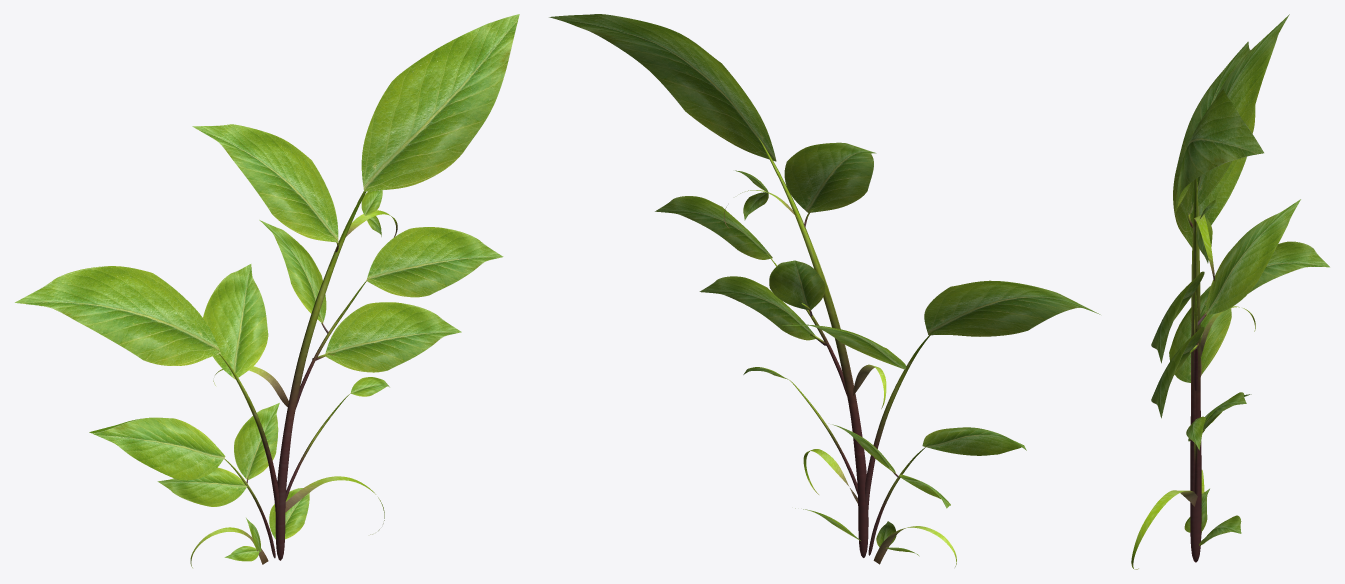
File: plant.glb
The picture shows the model from 3 angles, left to right: view 1: azimuth 30°, elevation 25°; view 2: azimuth 150°, elevation 25°; view 3: azimuth 270°, elevation 25°; orthographic projection. The views are drawn at different scales.
Visible parts, largest first — view 1: new_plant_1:planarTrimmedSurface1, new_plant_1:planarTrimmedSurface3, new_plant_1:planarTrimmedSurface2, new_plant_1:planarTrimmedSurface5, new_plant_1:planarTrimmedSurface4, new_plant_1:planarTrimmedSurface9, new_plant_1:planarTrimmedSurface14, new_plant_1:pCube1, new_plant_1:planarTrimmedSurface6, new_plant_1:planarTrimmedSurface13, new_plant_1:planarTrimmedSurface12, new_plant_1:planarTrimmedSurface8 (+1 smaller); view 2: new_plant_1:planarTrimmedSurface1, new_plant_1:planarTrimmedSurface3, new_plant_1:planarTrimmedSurface2, new_plant_1:pCube1, new_plant_1:planarTrimmedSurface4, new_plant_1:planarTrimmedSurface5, new_plant_1:planarTrimmedSurface9, new_plant_1:planarTrimmedSurface6, new_plant_1:planarTrimmedSurface14, new_plant_1:pCube2; view 3: new_plant_1:planarTrimmedSurface1, new_plant_1:planarTrimmedSurface6, new_plant_1:planarTrimmedSurface2, new_plant_1:planarTrimmedSurface3, new_plant_1:pCube1, new_plant_1:planarTrimmedSurface9, new_plant_1:planarTrimmedSurface14, new_plant_1:planarTrimmedSurface4, new_plant_1:planarTrimmedSurface5, new_plant_1:pPlane3, new_plant_1:planarTrimmedSurface8, new_plant_1:pPlane4 (+5 smaller).
Part boxes in pixels (x1,y1,x2,y2): new_plant_1:planarTrimmedSurface1: [361, 14, 519, 191]; new_plant_1:planarTrimmedSurface3: [15, 266, 220, 365]; new_plant_1:planarTrimmedSurface2: [192, 124, 338, 242]; new_plant_1:planarTrimmedSurface5: [325, 302, 461, 372]; new_plant_1:planarTrimmedSurface4: [366, 227, 503, 297]; new_plant_1:planarTrimmedSurface9: [89, 417, 225, 480]; new_plant_1:planarTrimmedSurface14: [203, 264, 268, 379]; new_plant_1:pCube1: [275, 191, 365, 560]; new_plant_1:planarTrimmedSurface6: [259, 220, 326, 322]; new_plant_1:planarTrimmedSurface13: [234, 403, 279, 479]; new_plant_1:planarTrimmedSurface12: [157, 467, 247, 506]; new_plant_1:planarTrimmedSurface8: [269, 488, 309, 539]; new_plant_1:planarTrimmedSurface1: [549, 14, 776, 161]; new_plant_1:planarTrimmedSurface3: [924, 280, 1100, 336]; new_plant_1:planarTrimmedSurface2: [784, 142, 876, 212]; new_plant_1:pCube1: [758, 137, 868, 557]; new_plant_1:planarTrimmedSurface4: [655, 196, 772, 259]; new_plant_1:planarTrimmedSurface5: [699, 276, 816, 340]; new_plant_1:planarTrimmedSurface9: [922, 427, 1026, 455]; new_plant_1:planarTrimmedSurface6: [769, 260, 825, 309]; new_plant_1:planarTrimmedSurface14: [782, 324, 906, 369]; new_plant_1:pCube2: [865, 330, 934, 514]; new_plant_1:planarTrimmedSurface1: [1175, 89, 1263, 212]; new_plant_1:planarTrimmedSurface6: [1204, 199, 1300, 314]; new_plant_1:planarTrimmedSurface2: [1187, 14, 1289, 215]; new_plant_1:planarTrimmedSurface3: [1173, 41, 1255, 247]; new_plant_1:pCube1: [1190, 178, 1201, 562]; new_plant_1:planarTrimmedSurface9: [1169, 286, 1231, 382]; new_plant_1:planarTrimmedSurface14: [1204, 241, 1329, 305]; new_plant_1:planarTrimmedSurface4: [1151, 271, 1204, 363]; new_plant_1:planarTrimmedSurface5: [1151, 326, 1204, 418]; new_plant_1:pPlane3: [1131, 490, 1197, 569]; new_plant_1:planarTrimmedSurface8: [1199, 515, 1241, 545]; new_plant_1:pPlane4: [1194, 214, 1214, 281].
Bounding box in the file's own units: 0.2955 × 0.2586 × 0.0805.
Materials: 5 (5 with a texture image).
